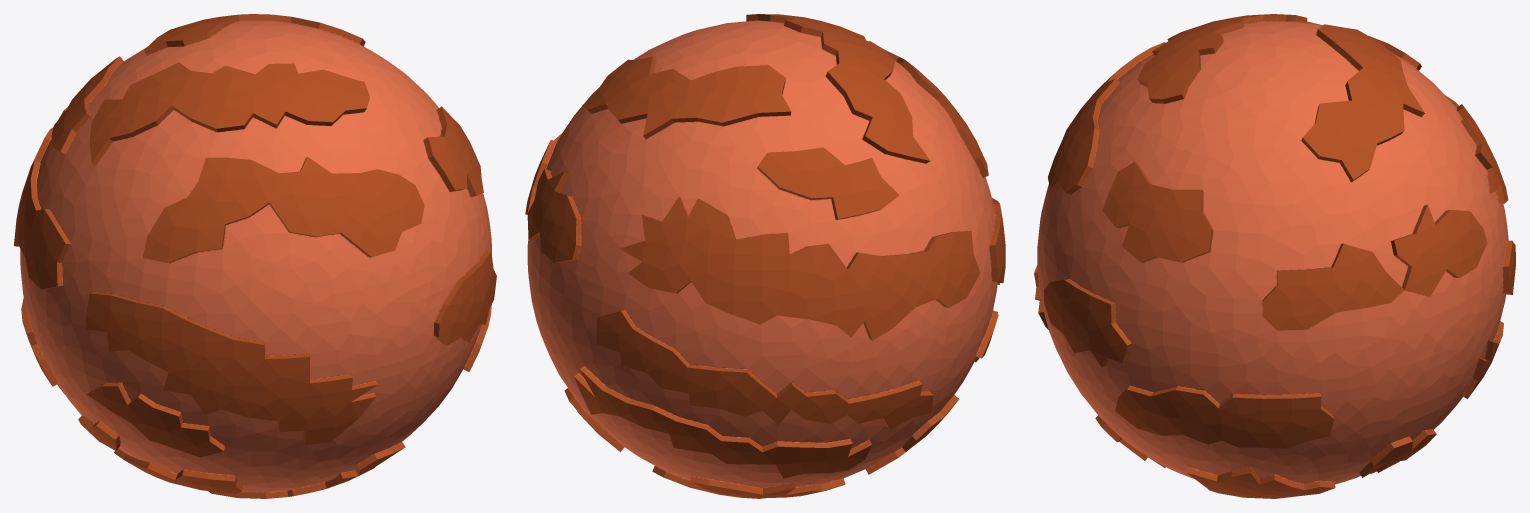
File: mars.gltf
The picture shows the model from 3 angles, left to right: view 1: azimuth 30°, elevation 25°; view 2: azimuth 150°, elevation 25°; view 3: azimuth 270°, elevation 25°; orthographic projection.
Visible parts, largest first — view 1: Mars; view 2: Mars; view 3: Mars.
Boxes of the visible parts, x1,y1,x2,y2 form: Mars: (14, 14, 496, 498); Mars: (525, 14, 1005, 498); Mars: (1034, 14, 1515, 498).
Size of the model in its own units: 2.07 by 2.03 by 2.06.
Materials: 2 (2 with a texture image).
